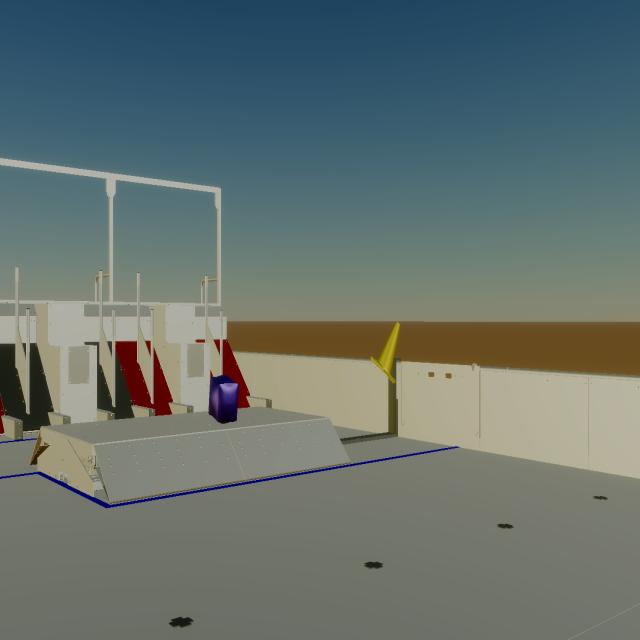frc_cone: (371, 322, 400, 384)
frc_cube: (208, 375, 239, 424)
